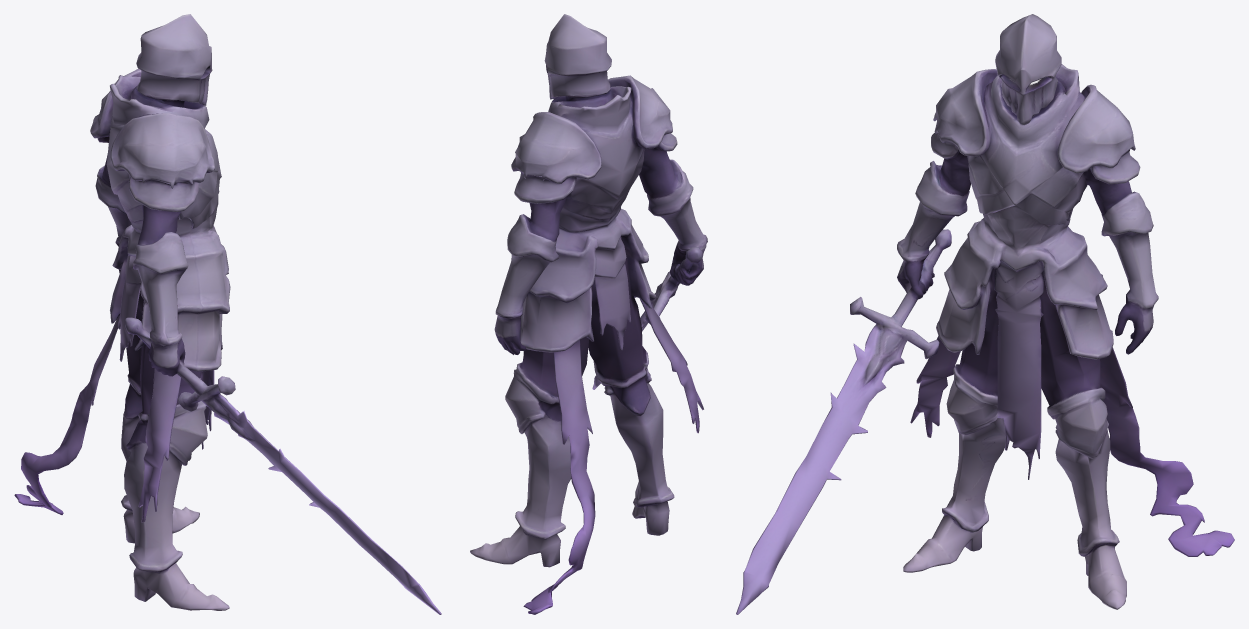
3 views of the same model, side by side, from view 1: azimuth 30°, elevation 25°; view 2: azimuth 150°, elevation 25°; view 3: azimuth 270°, elevation 25° (orthographic). The views are drawn at different scales.
Visible parts, largest first — view 1: tripo_node_45ed9d77-1272-4e24-9332-b5e90eb1e15a; view 2: tripo_node_45ed9d77-1272-4e24-9332-b5e90eb1e15a; view 3: tripo_node_45ed9d77-1272-4e24-9332-b5e90eb1e15a.
Part boxes in pixels (x1,y1,x2,y2): tripo_node_45ed9d77-1272-4e24-9332-b5e90eb1e15a: (14,14,441,614); tripo_node_45ed9d77-1272-4e24-9332-b5e90eb1e15a: (470,14,707,614); tripo_node_45ed9d77-1272-4e24-9332-b5e90eb1e15a: (736,14,1234,614).
Size of the model in its own units: 0.411 by 1 by 0.8063.
Materials: 1 (1 with a texture image).
